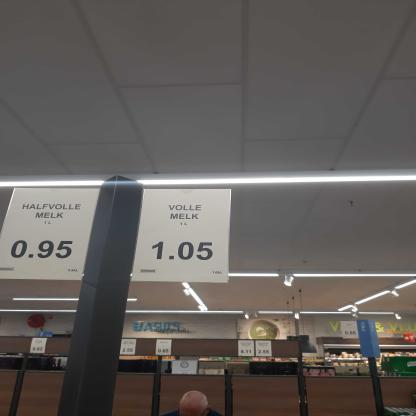prtg: (131, 189, 233, 284), (1, 188, 99, 283)
